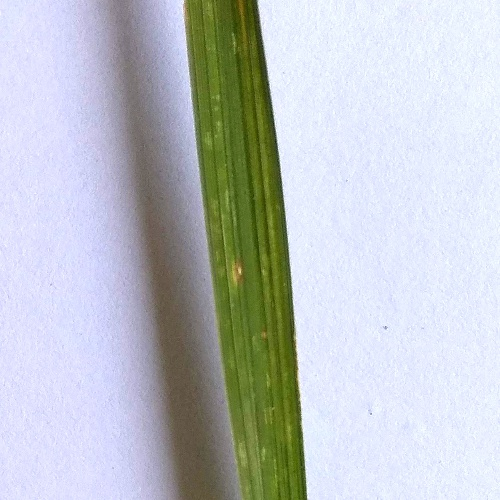Busuk Leher: (229, 253, 250, 283)
